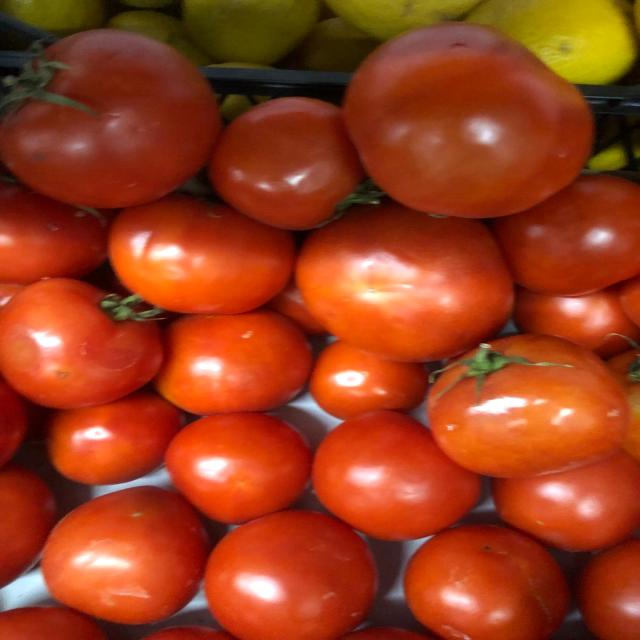tomato: (335, 16, 601, 221), (1, 27, 228, 210), (420, 321, 635, 475), (31, 479, 209, 629), (203, 505, 384, 640), (0, 274, 168, 414), (137, 300, 320, 419), (155, 406, 317, 524)
